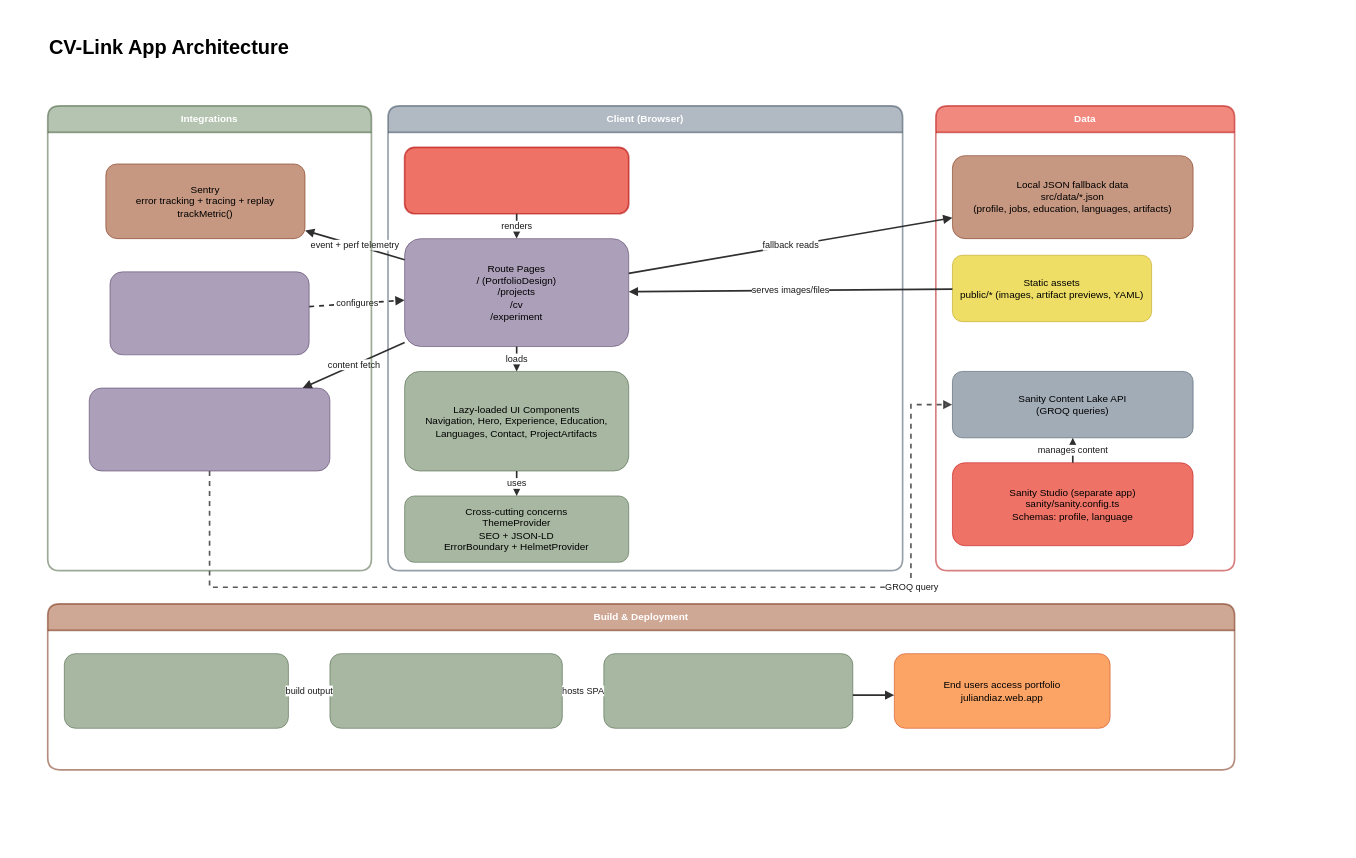
Some shapes in this 1356 by 858 pixel diagram are drawn without their labels. Here are the shapes that lost their labels. From the top down, the centre of each, then its label:
At (516,180): "User Browser (React SPA + React Router)".
At (209,313): "Env vars VITE_* config for Firebase, Sanity, Sentry".
At (209,429): "Sanity client layer lib/sanity/client.ts getProfile(), getLanguages()".
At (175,690): "Vite + TypeScript build npm run build outputs: /build".
At (445,690): "Firebase Hosting firebase.json SPA rewrite -> /index.html".
At (728,690): "Sanity Studio deployment npm run sanity:deploy hosted separately by Sanity".
